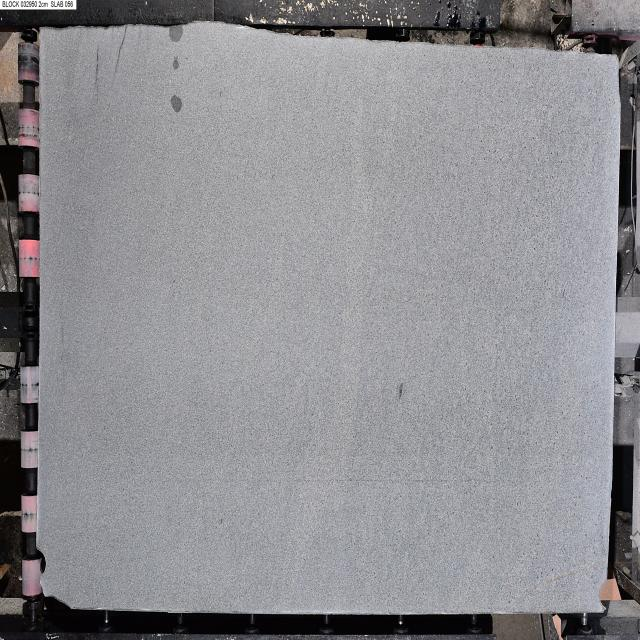chapa: (39, 23, 620, 614)
